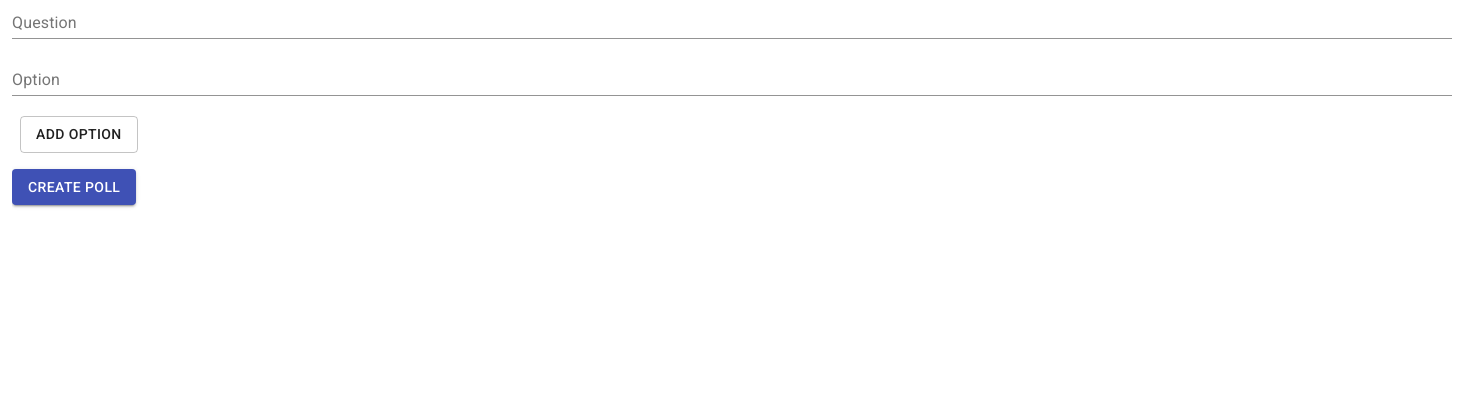
Scenario: Component PollCreator › adding › add multiple options
Type "option 1" into the field labelled "Option" at (732, 82), box [12,67,1452,96]
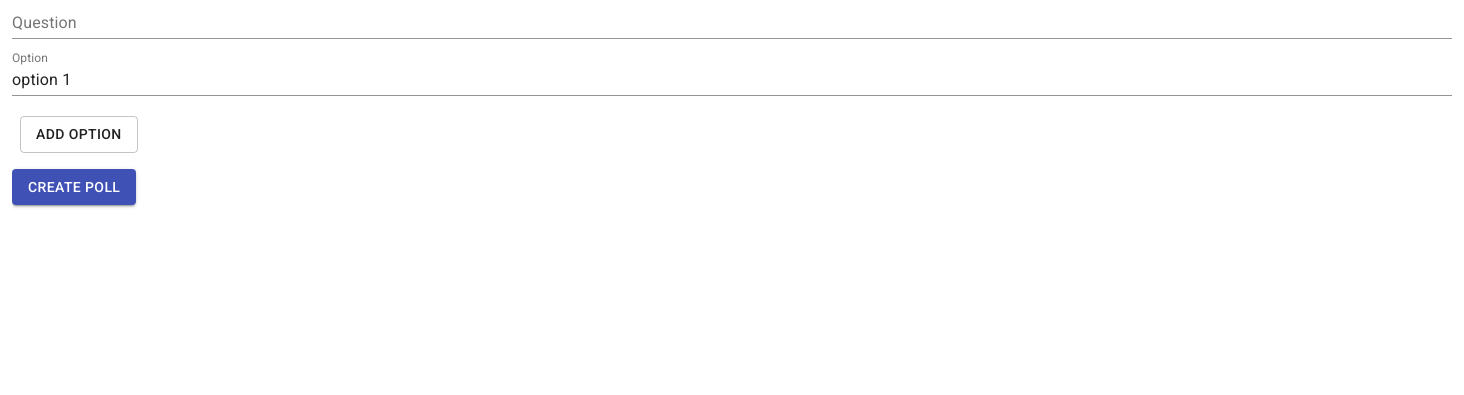
Click the button "Add option" at (79, 134), box [20,116,138,152]
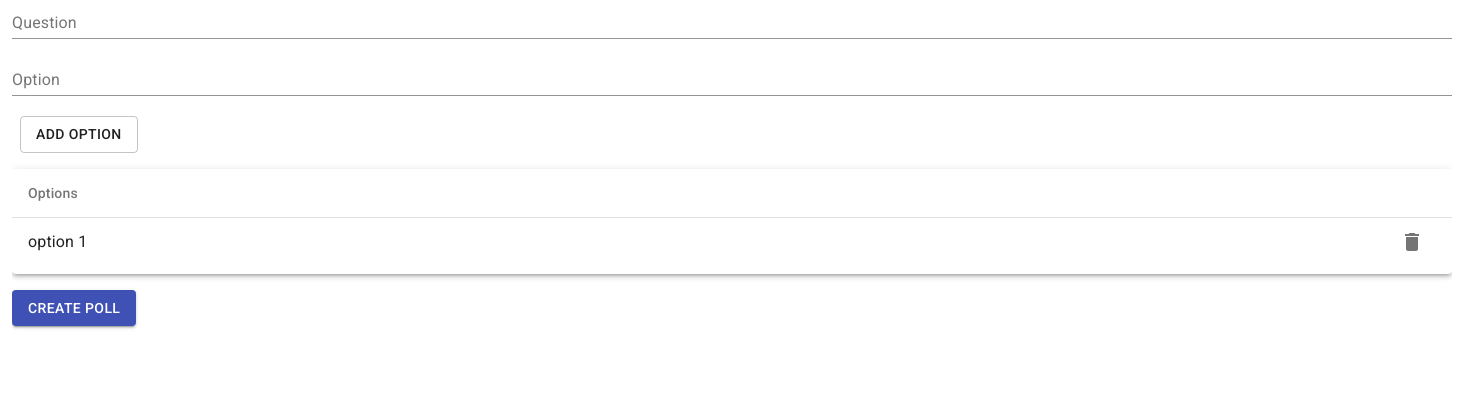
Type "option 2" into the field labelled "Option" at (732, 82), box [12,67,1452,96]
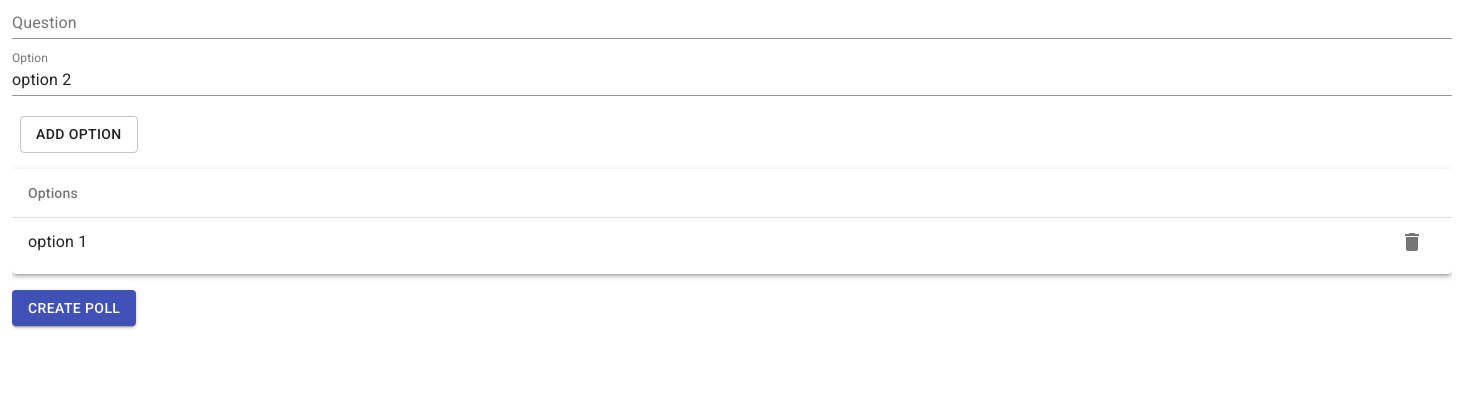
Click the button "Add option" at (79, 134), box [20,116,138,152]
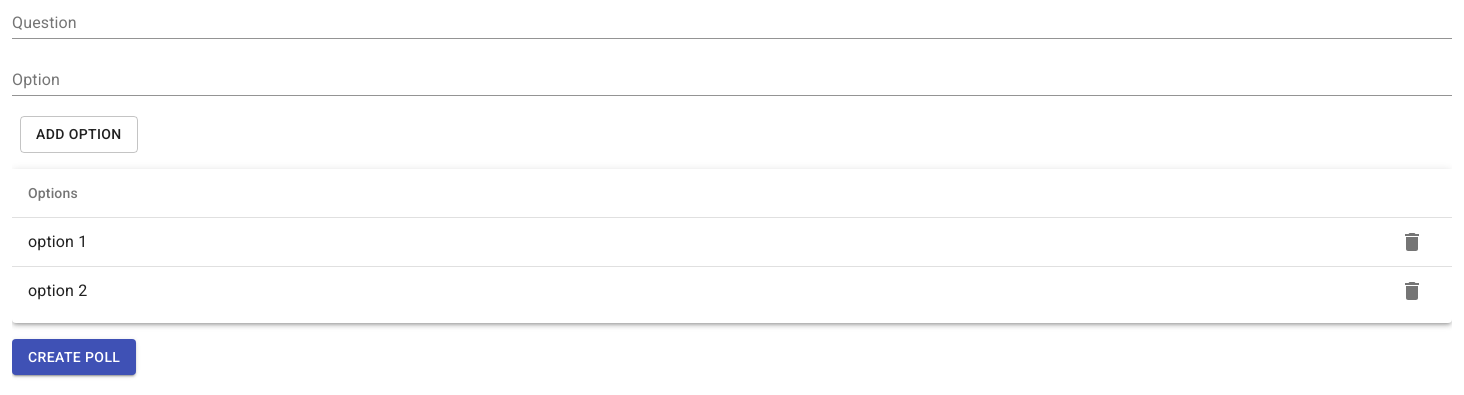
Now the text "option 1" is shown, box [28,230,87,254]
Now the text "option 2" is shown, box [28,278,87,302]
